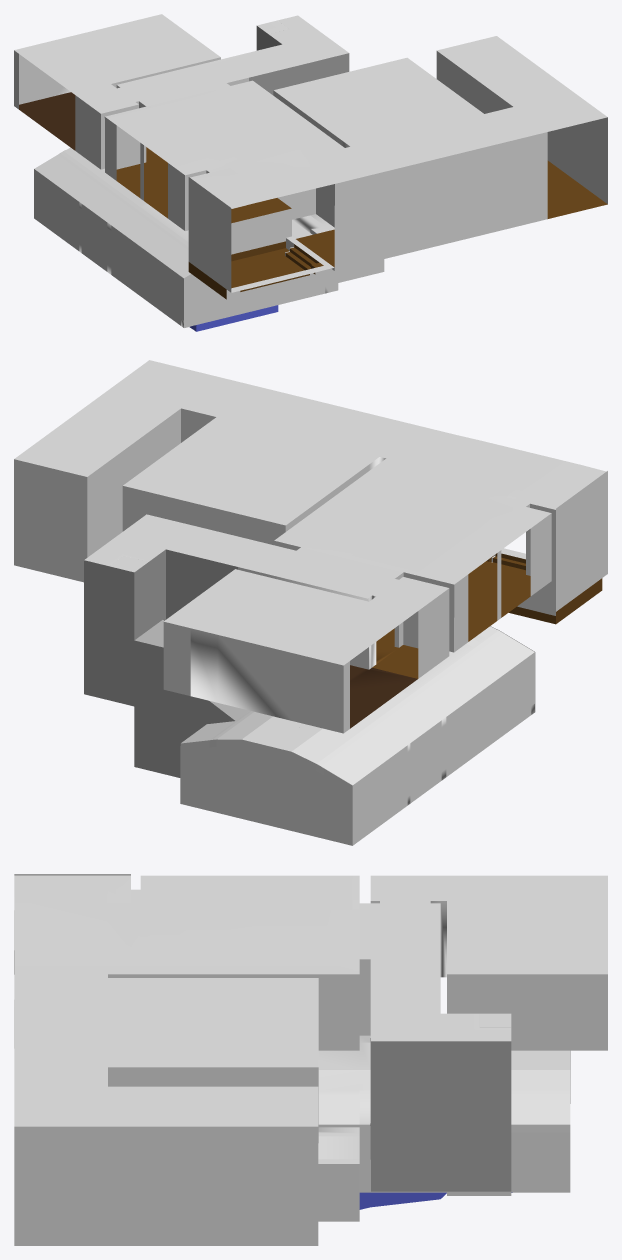
The model's file is new_journey_home-cleanedupfbx - bad uv exported.fbx.
The picture shows the model from 3 angles, top to bottom: view 1: azimuth 30°, elevation 25°; view 2: azimuth 150°, elevation 25°; view 3: azimuth 270°, elevation 25°; orthographic projection. The views are drawn at different scales.
Parts seen in each view (by area): view 1: Roof, pool, main wallway, Entry hall.008, main wallway.001, entry hall, sleep room, stairs to pool, hallway, movie room; view 2: Roof, pool, stairs to pool, sleep room, entry hall, Entry hall.008, main wallway.001, movie room, hallway, beam.005; view 3: Roof, entry hall, stairs to pool, pool, sleep room, movie room, Entry hall.008, hallway.
Boxes of the visible parts, left/top/right/bottom form: Roof: left=14, top=14, right=607, bottom=208; pool: left=34, top=148, right=384, bottom=331; main wallway: left=296, top=132, right=547, bottom=270; Entry hall.008: left=104, top=117, right=334, bottom=254; main wallway.001: left=188, top=177, right=334, bottom=299; entry hall: left=436, top=51, right=607, bottom=218; sleep room: left=14, top=50, right=220, bottom=150; stairs to pool: left=249, top=26, right=349, bottom=94; hallway: left=75, top=77, right=248, bottom=169; movie room: left=273, top=90, right=349, bottom=147; Roof: left=14, top=360, right=606, bottom=665; pool: left=180, top=626, right=534, bottom=845; stairs to pool: left=84, top=549, right=237, bottom=777; sleep room: left=163, top=622, right=417, bottom=733; entry hall: left=14, top=409, right=180, bottom=582; Entry hall.008: left=274, top=503, right=555, bottom=652; main wallway.001: left=487, top=471, right=607, bottom=624; movie room: left=122, top=408, right=385, bottom=545; hallway: left=238, top=567, right=449, bottom=678; beam.005: left=180, top=739, right=352, bottom=845; Roof: left=14, top=875, right=607, bottom=1126; entry hall: left=14, top=1126, right=318, bottom=1245; stairs to pool: left=370, top=1038, right=511, bottom=1191; pool: left=318, top=1035, right=570, bottom=1221; sleep room: left=440, top=901, right=607, bottom=1050; movie room: left=108, top=1067, right=318, bottom=1142; Entry hall.008: left=108, top=974, right=359, bottom=1050; hallway: left=359, top=901, right=440, bottom=1035.
Bounding box in the file's own units: 2542 × 1213 × 2540.
